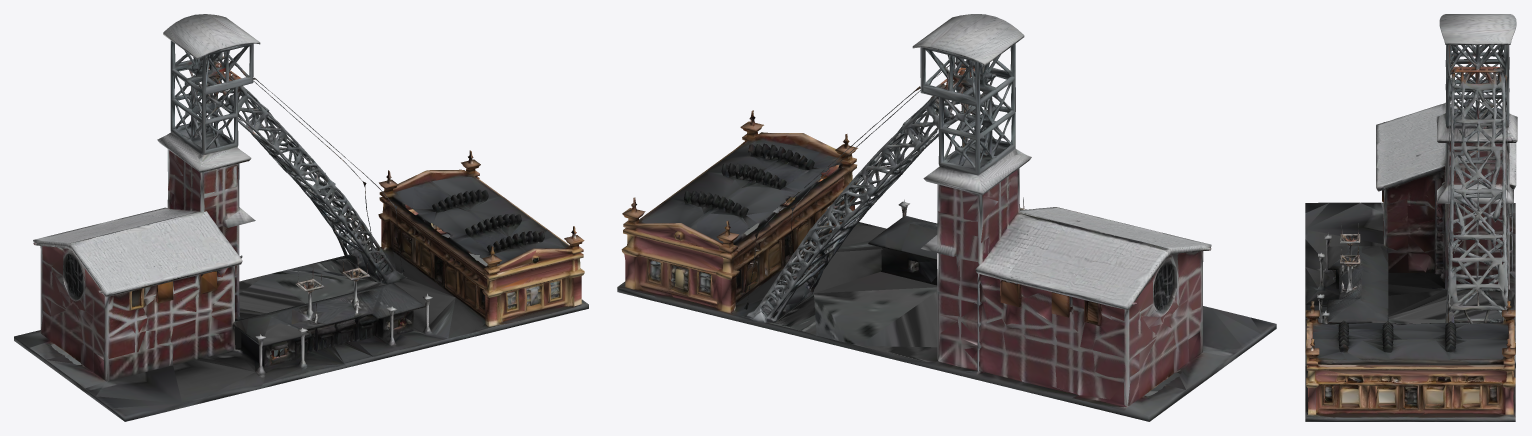
Rendered from ind-heritage.glb.
3 views of the same model, side by side, from view 1: azimuth 30°, elevation 25°; view 2: azimuth 150°, elevation 25°; view 3: azimuth 270°, elevation 25° (orthographic). The views are drawn at different scales.
Visible parts, largest first — view 1: Body; view 2: Body; view 3: Body.
Part boxes in pixels (box(x1,y1,x2,y2)): Body: box(14, 14, 588, 421); Body: box(617, 14, 1276, 421); Body: box(1305, 14, 1517, 421).
Bounding box in the file's own units: 62.11 × 36 × 25.95.
1 material, 1 textured.
